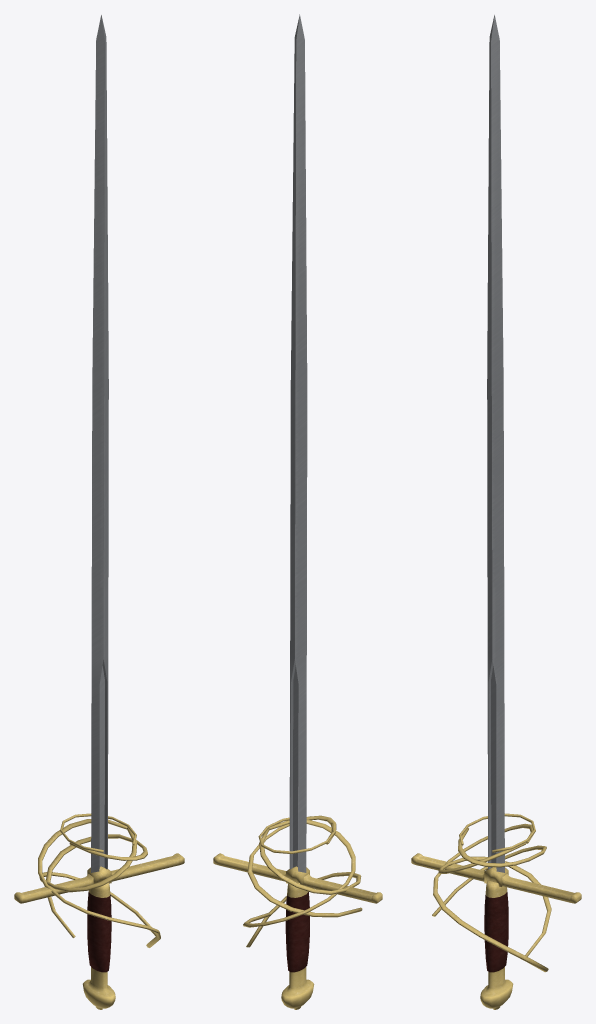
Rendered from rapier.glb.
3 renders of one model, left to right at view 1: azimuth 30°, elevation 25°; view 2: azimuth 150°, elevation 25°; view 3: azimuth 330°, elevation 25°, orthographic.
Parts seen in each view (by area): view 1: EspadaRopera_0; view 2: EspadaRopera_0; view 3: EspadaRopera_0.
Part boxes in pixels (box(x1,y1,x2,y2)): EspadaRopera_0: box(14, 15, 184, 1009); EspadaRopera_0: box(213, 14, 382, 1009); EspadaRopera_0: box(411, 15, 581, 1009).
Bounding box in the file's own units: 0.7871 × 4.53 × 0.5742.
Materials: 1 (1 with a texture image).
